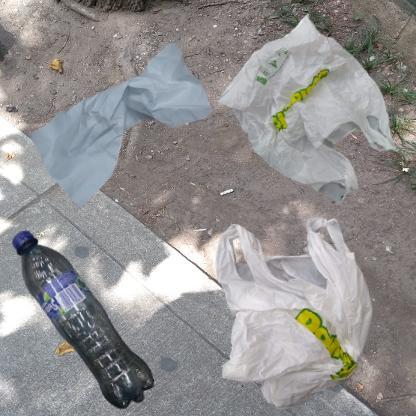bolsa: (213, 10, 400, 209), (213, 213, 379, 416)
botella: (10, 213, 168, 416)
papel: (10, 10, 240, 256)
